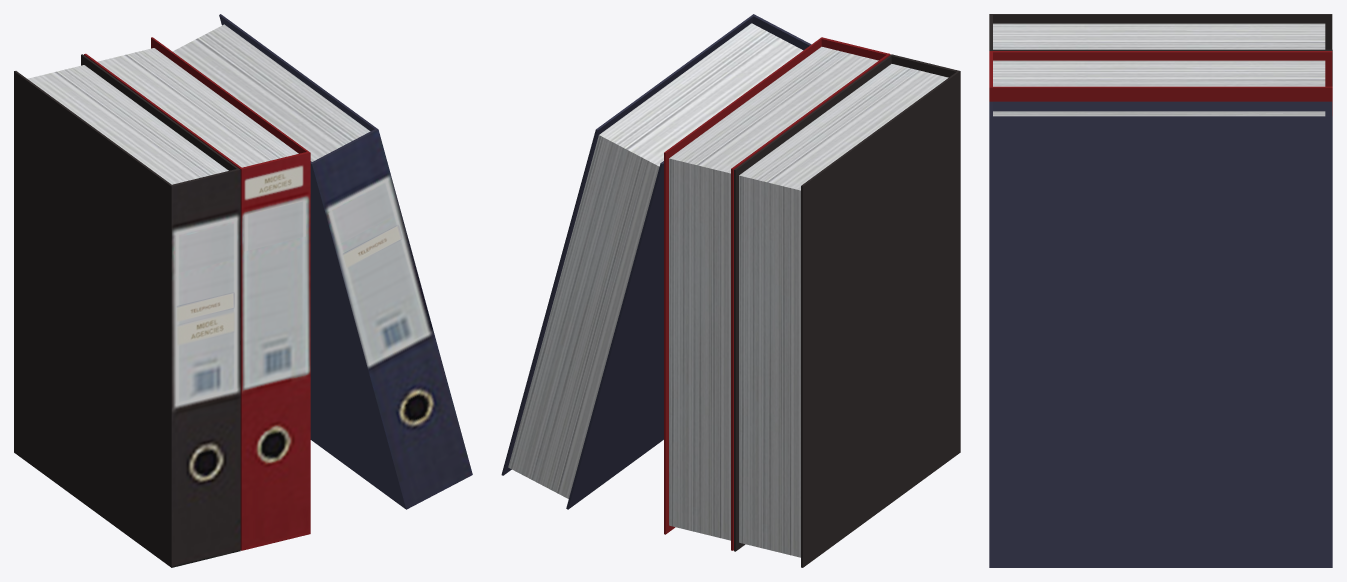
The model's file is Files 1.FBX.
The picture shows the model from 3 angles, left to right: view 1: azimuth 30°, elevation 25°; view 2: azimuth 150°, elevation 25°; view 3: azimuth 270°, elevation 25°; orthographic projection. The views are drawn at different scales.
Parts seen in each view (by area): view 1: File 1, File 3, File 2; view 2: File 1, File 3, File 2; view 3: File 3, File 2, File 1.
Part boxes in pixels (bbox=[...]): File 1: bbox=[14, 54, 240, 567]; File 3: bbox=[172, 14, 472, 509]; File 2: bbox=[84, 37, 310, 550]; File 1: bbox=[734, 54, 960, 567]; File 3: bbox=[501, 14, 811, 509]; File 2: bbox=[664, 37, 890, 550]; File 3: bbox=[989, 101, 1332, 567]; File 2: bbox=[989, 51, 1332, 115]; File 1: bbox=[989, 14, 1332, 86].
Bounding box in the file's own units: 28.26 × 34.79 × 25.64.
1 material, 1 textured.
